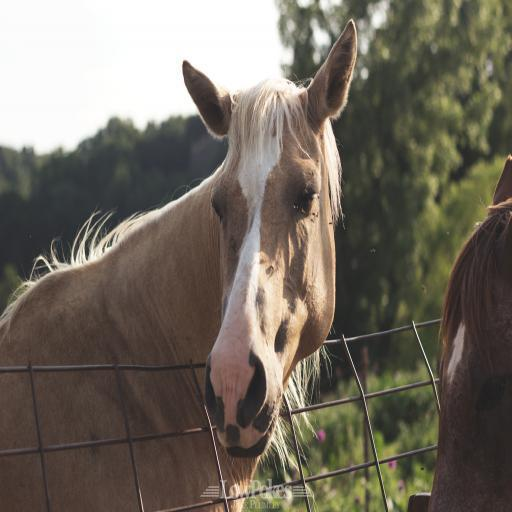horse: (0, 16, 358, 509), (428, 152, 512, 512)
